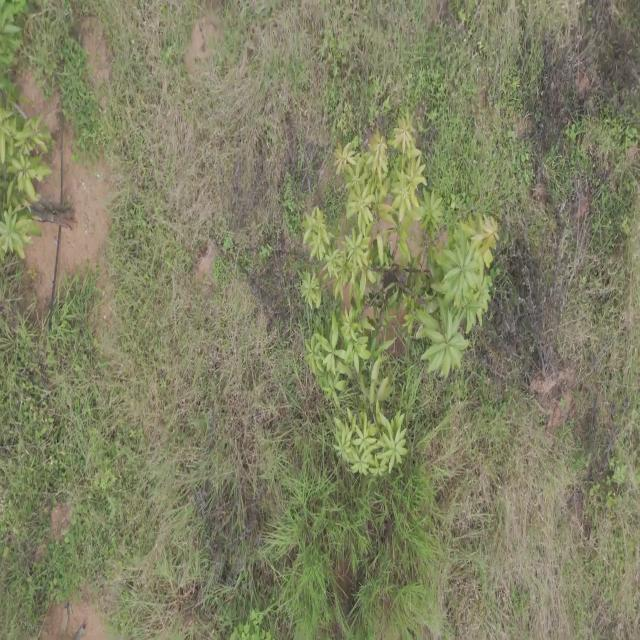mangoTree: (301, 104, 498, 482), (0, 74, 51, 281)
